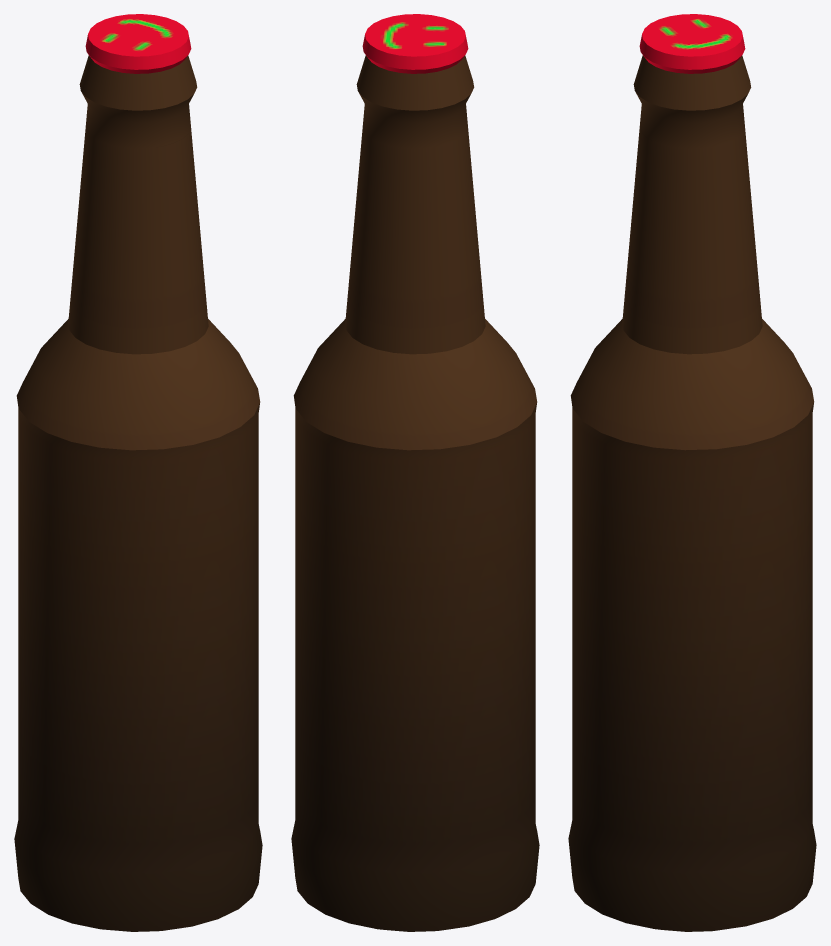
The model's file is Bottle.fbx.
The picture shows the model from 3 angles, left to right: view 1: azimuth 30°, elevation 25°; view 2: azimuth 150°, elevation 25°; view 3: azimuth 270°, elevation 25°; orthographic projection.
Parts seen in each view (by area): view 1: Bottle; view 2: Bottle; view 3: Bottle.
Part boxes in pixels (x1=…): Bottle: x1=14, y1=14, x2=262, y2=931; Bottle: x1=291, y1=14, x2=539, y2=931; Bottle: x1=568, y1=14, x2=816, y2=931.
Bounding box in the file's own units: 14.01 × 53.32 × 14.01.
